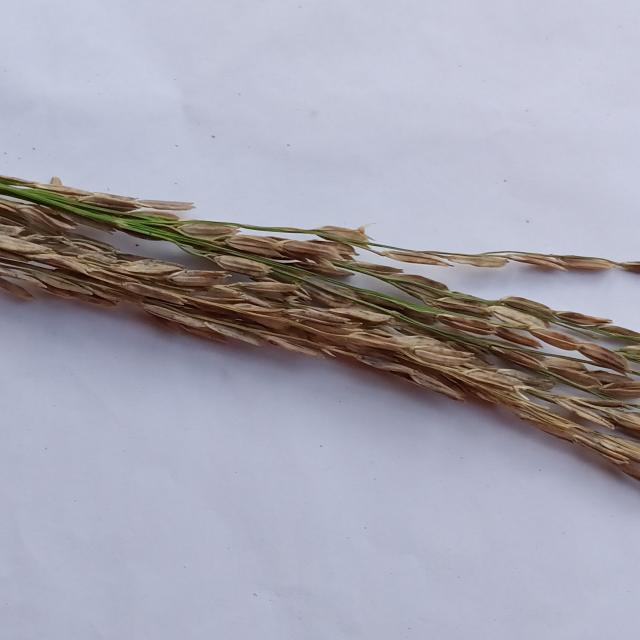Neck_Blast: (0, 190, 640, 494), (151, 192, 640, 414)
